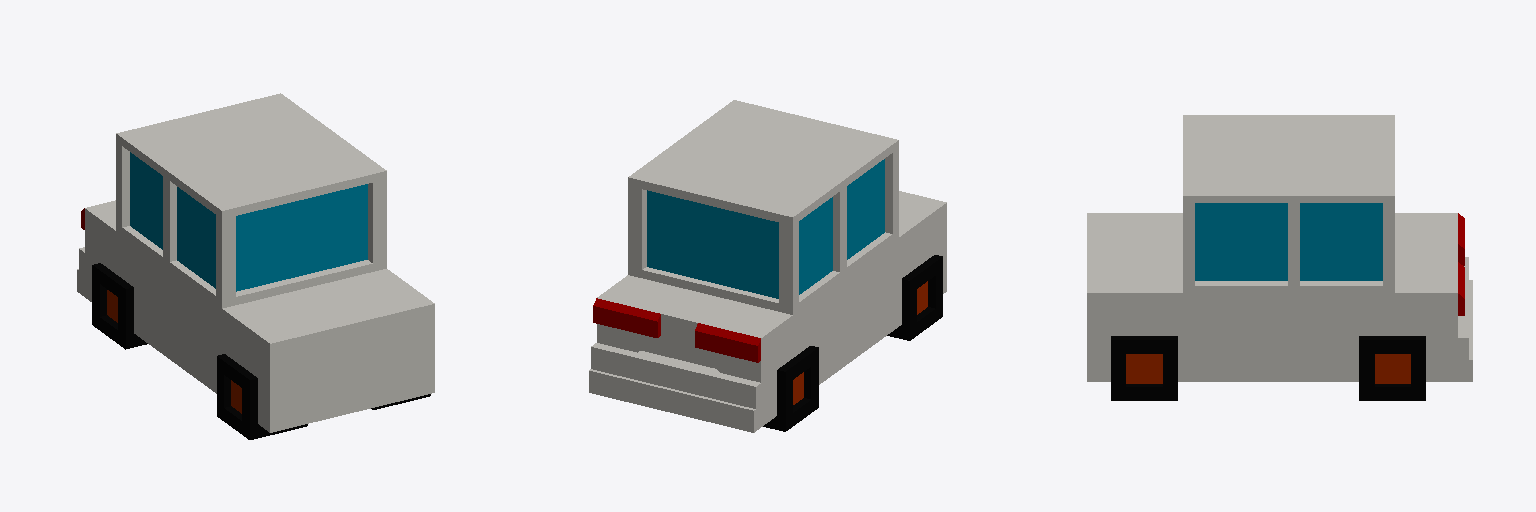
File: car3.obj
The picture shows the model from 3 angles: view 1: azimuth 30°, elevation 25°; view 2: azimuth 150°, elevation 25°; view 3: azimuth 270°, elevation 25°; orthographic projection.
Parts seen in each view (by area): view 1: Cube, Cube.002_Cube.001, Cube.001, Cube.005_Cube.002; view 2: Cube, Cube.001, Cube.002_Cube.001, Cube.005_Cube.002; view 3: Cube, Cube.004_Cube.001, Cube.003_Cube.001, Cube.005_Cube.002.
Boxes of the visible parts, x1,y1,x2,y2 form: Cube: [77, 93, 434, 432]; Cube.002_Cube.001: [217, 354, 307, 439]; Cube.001: [92, 263, 147, 349]; Cube.005_Cube.002: [163, 174, 176, 265]; Cube: [589, 100, 946, 432]; Cube.001: [763, 346, 818, 431]; Cube.002_Cube.001: [887, 255, 942, 340]; Cube.005_Cube.002: [833, 179, 846, 273]; Cube: [1087, 115, 1472, 381]; Cube.004_Cube.001: [1359, 336, 1425, 400]; Cube.003_Cube.001: [1111, 336, 1177, 400]; Cube.005_Cube.002: [1288, 203, 1299, 285].
Size of the model in its own units: 2.2 by 2.33 by 4.06.